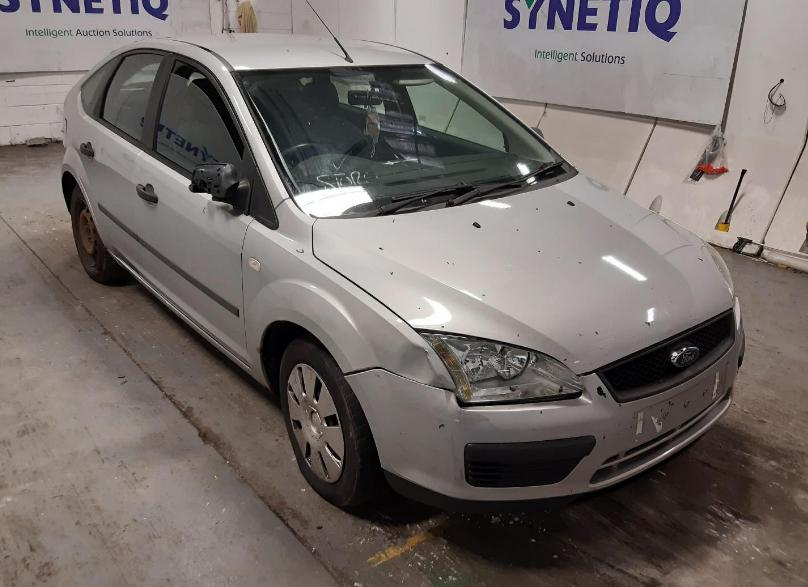Back-door: (75, 48, 170, 269)
Back-wheel: (70, 184, 139, 286)
Back-window: (102, 54, 164, 142), (83, 59, 114, 106)
Fender: (241, 199, 454, 392)
Front-bumper: (344, 295, 745, 515)
Front-door: (132, 51, 278, 368)
Front-wheel: (279, 331, 392, 507)
Front-window: (156, 72, 241, 179)
Grille: (594, 308, 735, 403)
Headlight: (414, 331, 584, 404), (701, 239, 733, 299)
Hood: (312, 173, 733, 376)
Mirror: (189, 163, 250, 214), (530, 126, 544, 138)
Quarter-panel: (61, 85, 89, 181)
Rocker-panel: (106, 247, 274, 393)
Roof: (156, 33, 437, 72)
Windshield: (233, 63, 579, 218)
